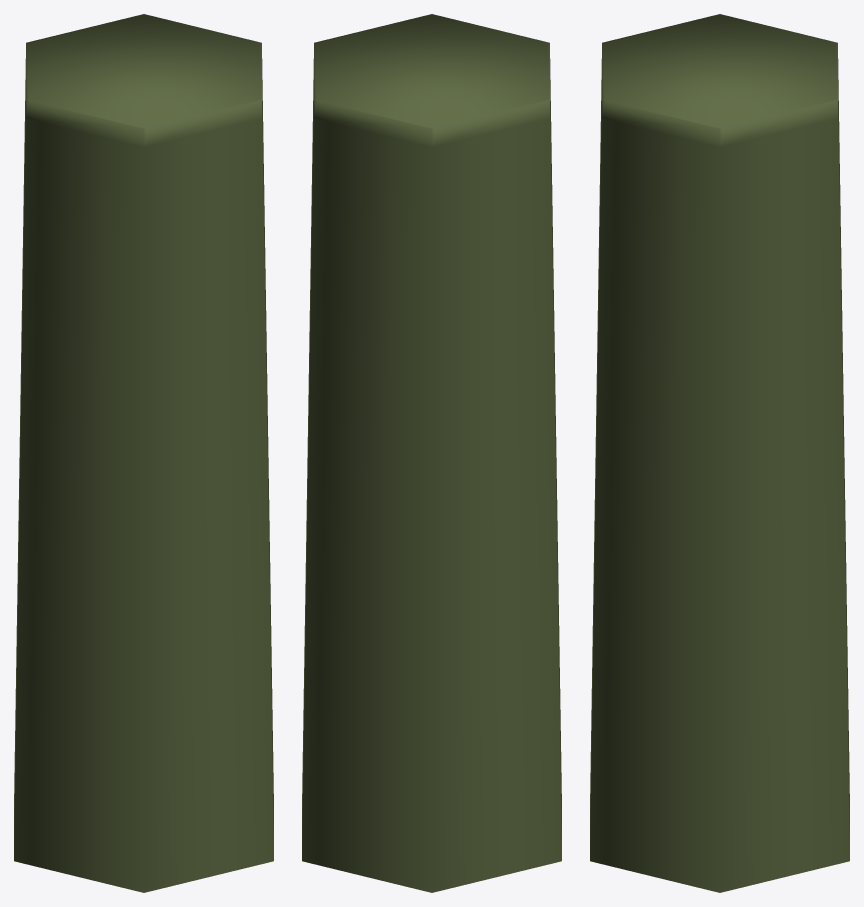
Rendered from banana_b_low.glb.
The picture shows the model from 3 angles, left to right: view 1: azimuth 30°, elevation 25°; view 2: azimuth 150°, elevation 25°; view 3: azimuth 270°, elevation 25°; orthographic projection.
Visible parts, largest first — view 1: banana_b_low; view 2: banana_b_low; view 3: banana_b_low.
Boxes of the visible parts, box(x1,y1,x2,y2) form: banana_b_low: box(14, 14, 273, 892); banana_b_low: box(302, 14, 561, 892); banana_b_low: box(590, 14, 849, 892).
Size of the model in its own units: 0.15 by 0.4182 by 0.1299.
1 material, 1 textured.
